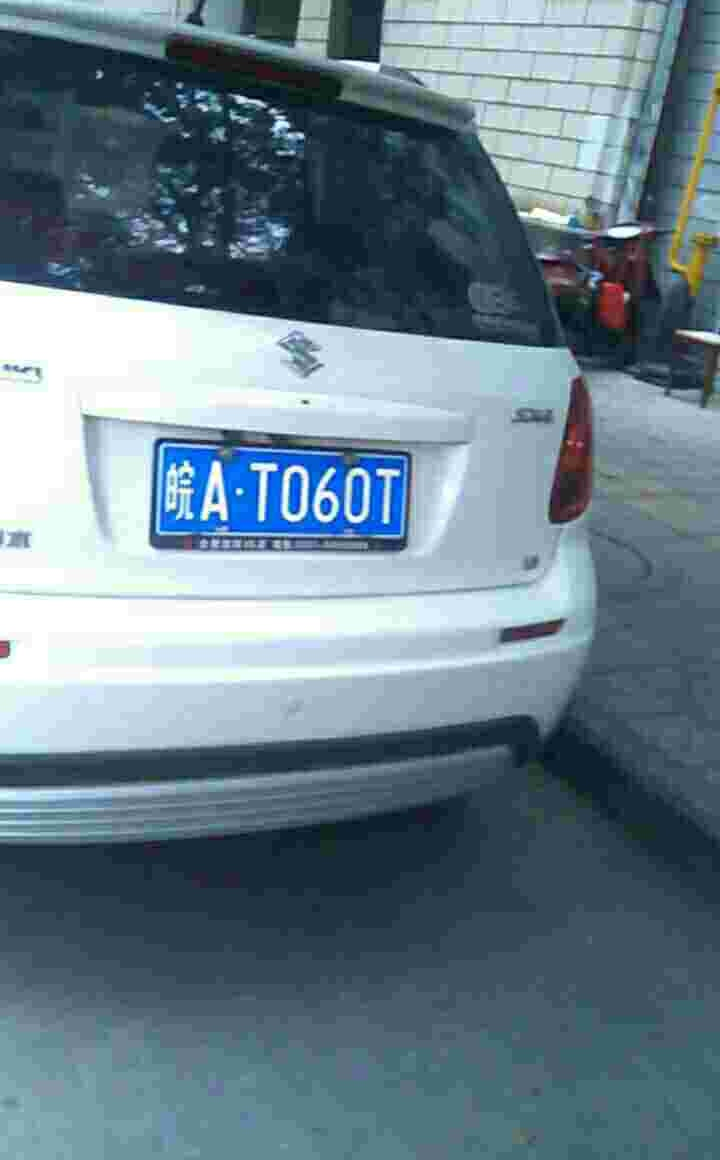plate: (164, 444, 418, 543)
